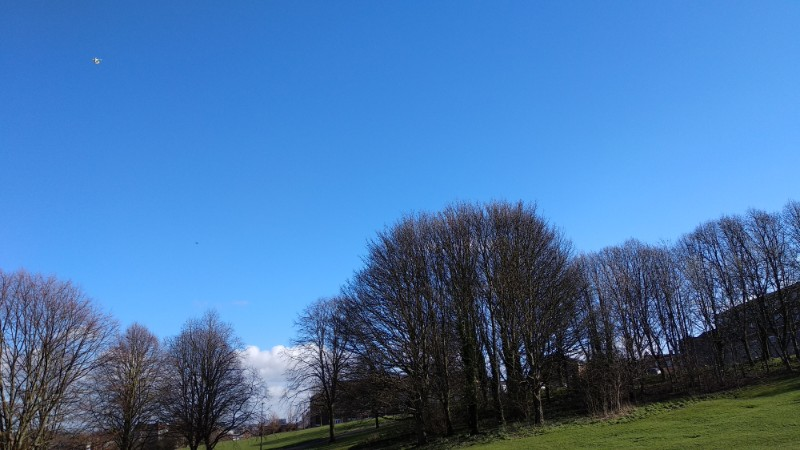drone: (90, 54, 103, 68)
